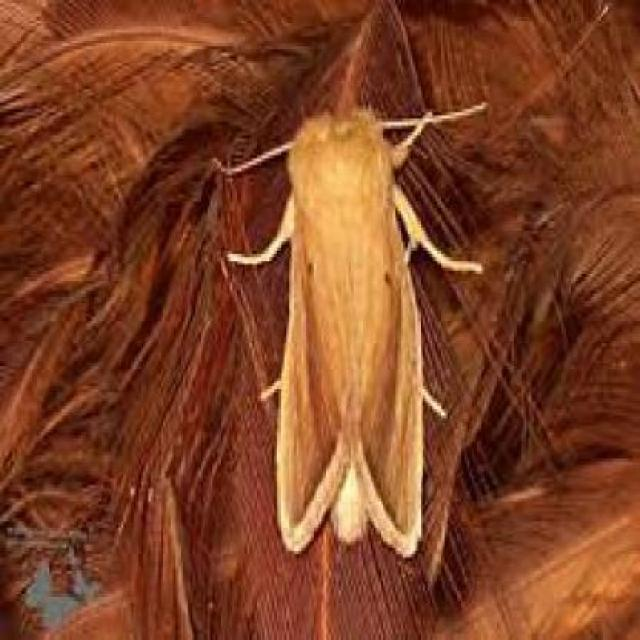stem-borer: (265, 100, 433, 562)
